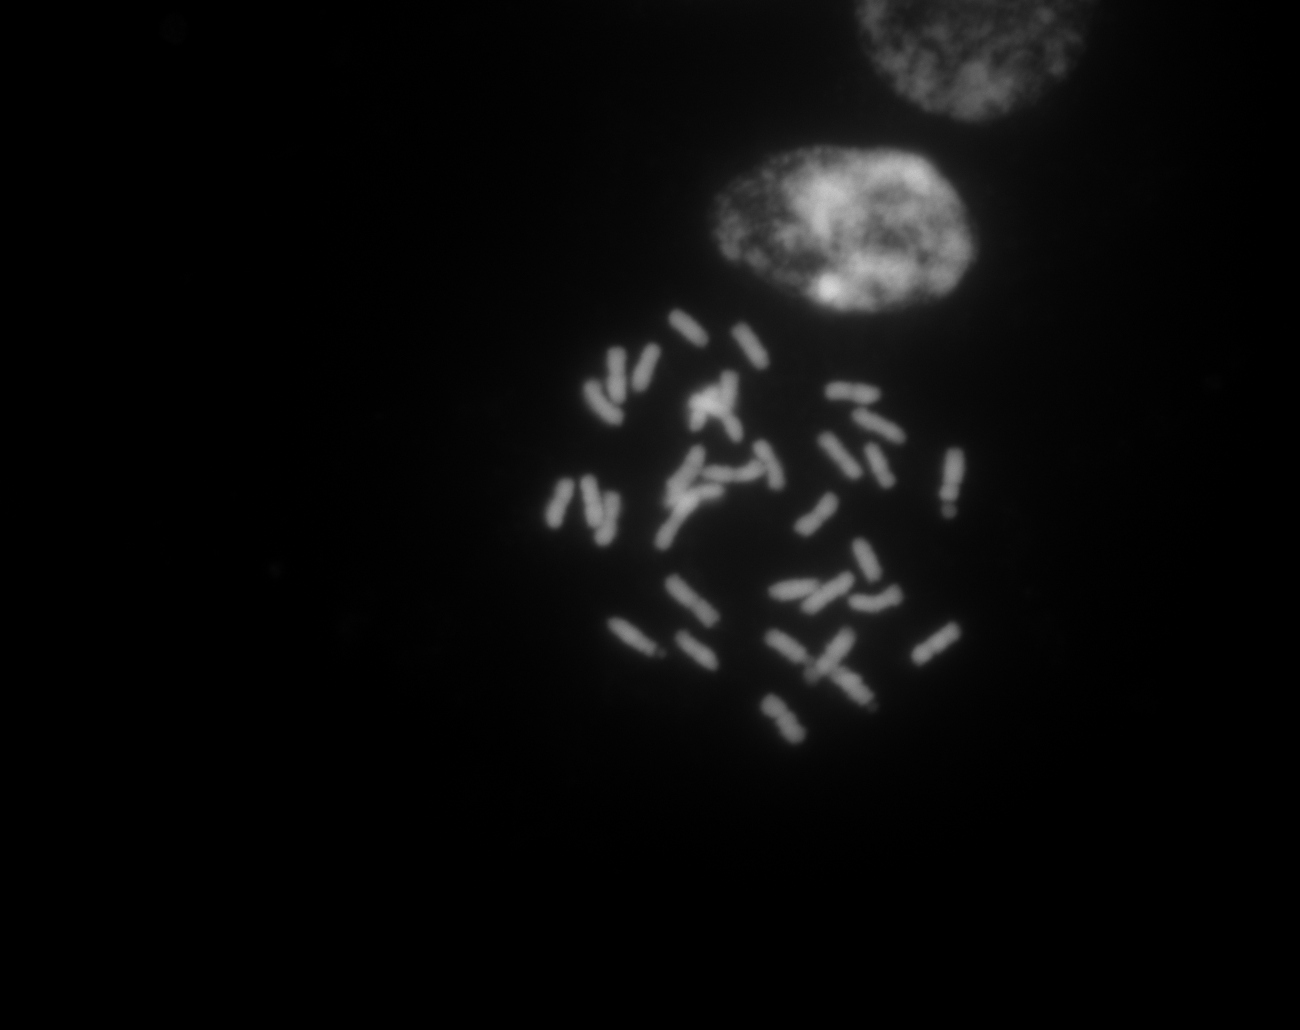Chromosomes: (516, 239, 1006, 798)
Others: (665, 100, 1013, 340), (789, 1, 1165, 148)
